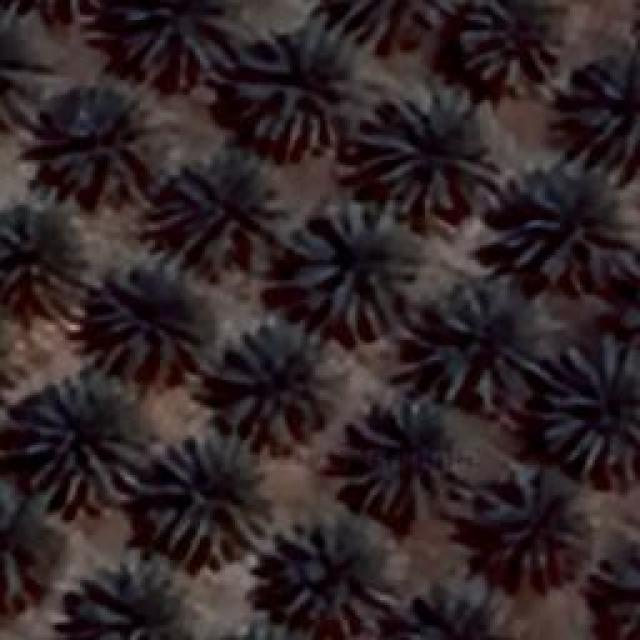PalmTree: (282, 200, 420, 340), (147, 144, 290, 278), (352, 87, 500, 215), (18, 370, 148, 515), (500, 160, 635, 292), (412, 280, 546, 408), (337, 398, 475, 520), (145, 432, 270, 566), (230, 24, 352, 158), (218, 320, 340, 452), (90, 258, 212, 388), (42, 78, 170, 200), (534, 335, 638, 480), (278, 510, 400, 632), (25, 80, 56, 550), (488, 462, 590, 568), (0, 200, 92, 317), (65, 552, 190, 638), (122, 0, 235, 88), (457, 0, 564, 92), (556, 52, 640, 158), (398, 574, 512, 638), (20, 530, 76, 640), (329, 0, 439, 50), (581, 552, 640, 640), (192, 620, 322, 640), (0, 298, 23, 407), (0, 0, 120, 16), (0, 294, 16, 408), (0, 0, 127, 11), (0, 294, 12, 408)
